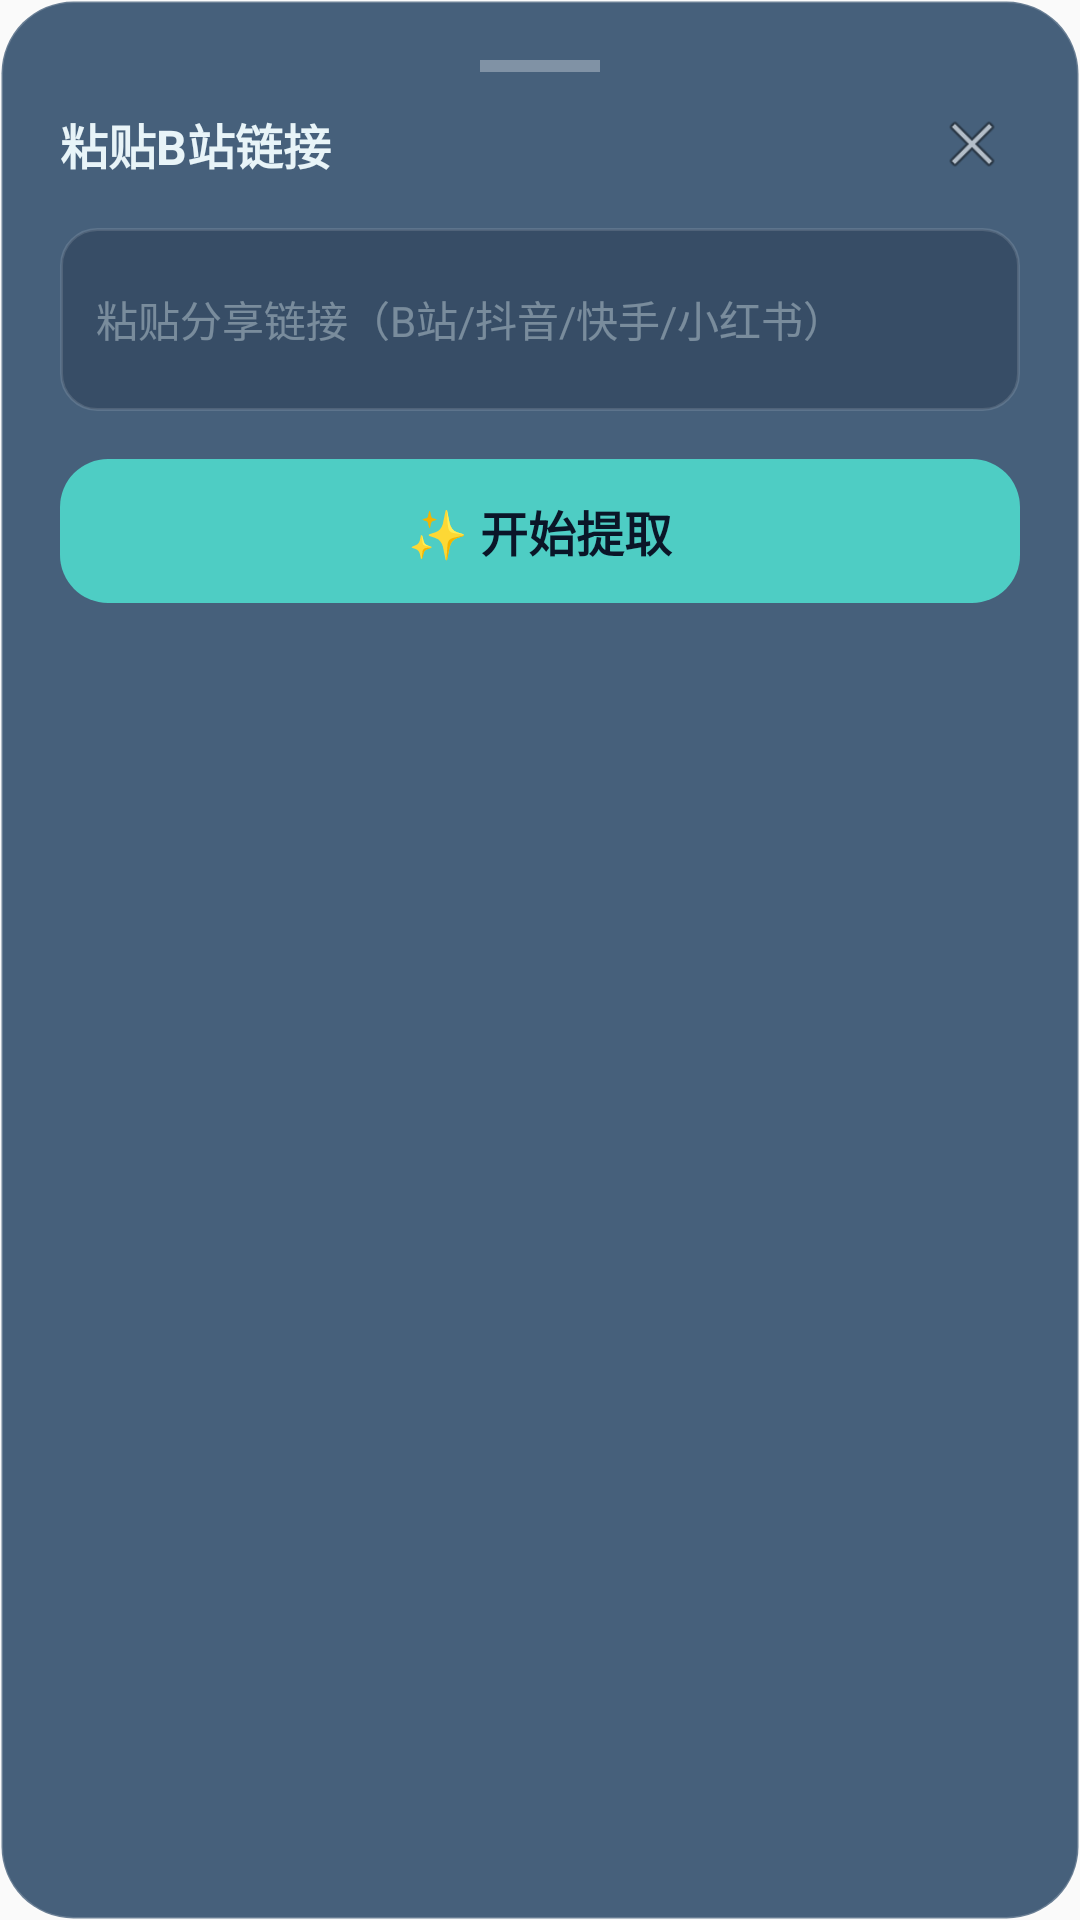

Named icons in this screenshot (1080w x 1920h) and their centers, (x=x, y=y):
close clear cancel: (x=972, y=144)
